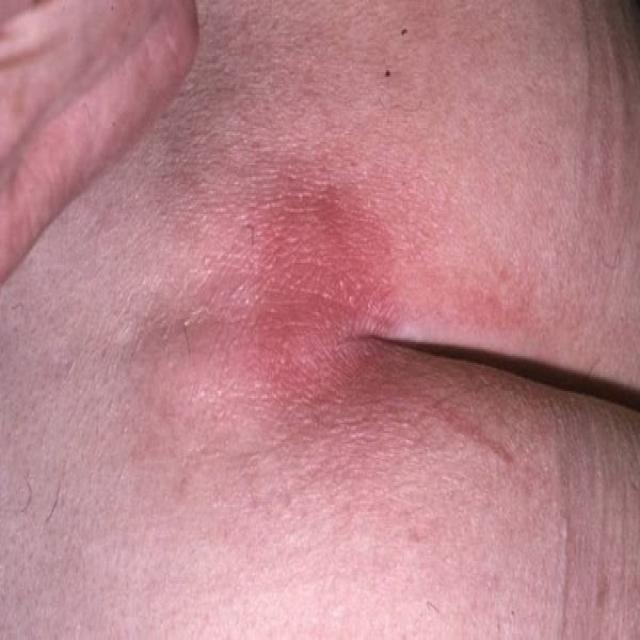stage-1: (253, 188, 397, 407)
